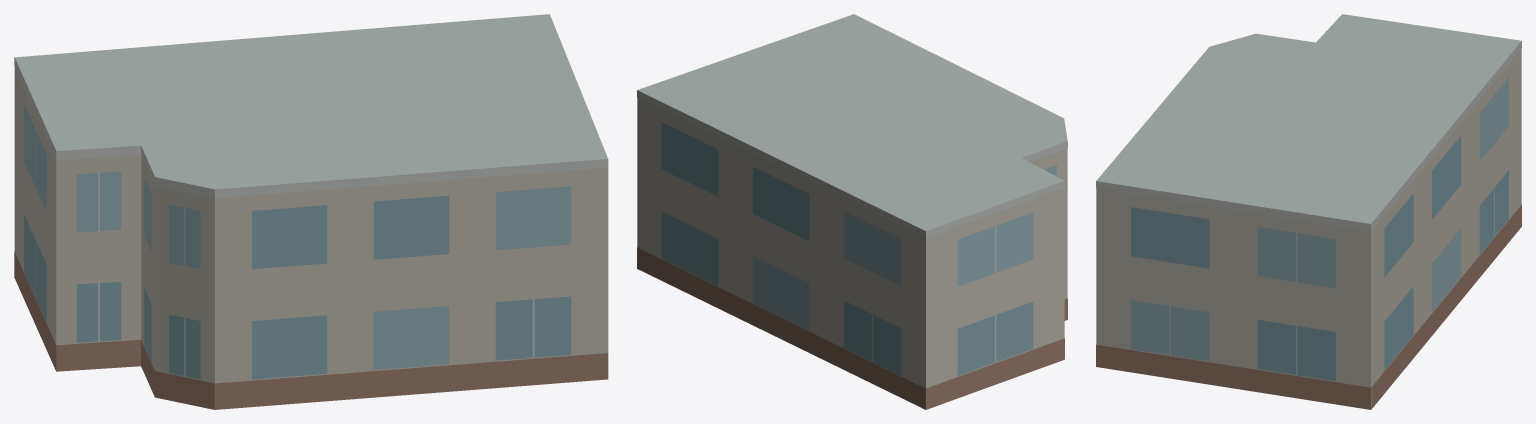
Rendered from survey-upis-32712256.glb.
3 views of the same model, side by side, from view 1: azimuth 30°, elevation 25°; view 2: azimuth 150°, elevation 25°; view 3: azimuth 270°, elevation 25° (orthographic). The views are drawn at different scales.
Visible parts, largest first — view 1: survey-upis-32712256.tmp; view 2: survey-upis-32712256.tmp; view 3: survey-upis-32712256.tmp.
Boxes of the visible parts, box(x1,y1,x2,y2) form: survey-upis-32712256.tmp: box(14, 14, 608, 409); survey-upis-32712256.tmp: box(637, 14, 1067, 409); survey-upis-32712256.tmp: box(1096, 14, 1521, 409).
Bounding box in the file's own units: 14.8 × 6.1 × 12.67.
